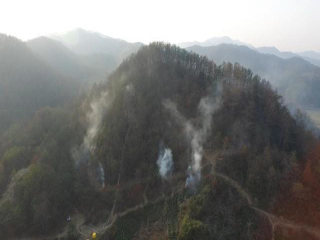smoke: (75, 83, 230, 189)
